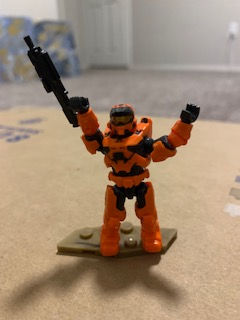rifle: (20, 34, 91, 131)
spartan: (68, 93, 201, 257)
up: (70, 94, 199, 172)
